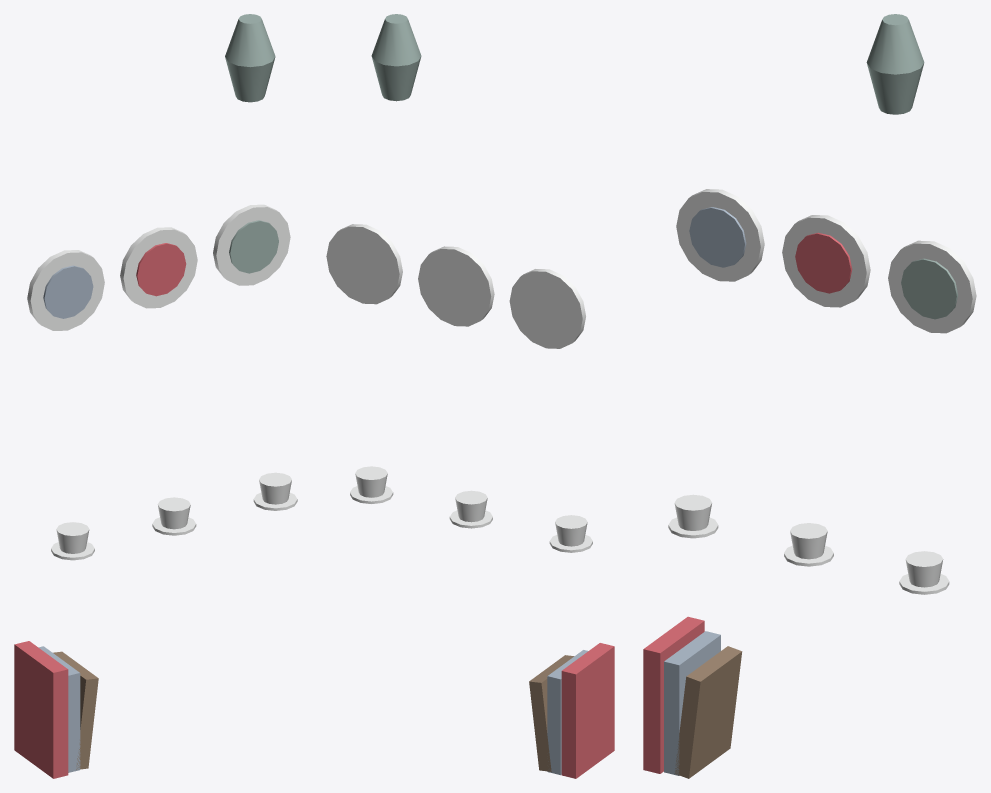
The model's file is curio-contents.gltf.
3 views of the same model, side by side, from view 1: azimuth 30°, elevation 25°; view 2: azimuth 150°, elevation 25°; view 3: azimuth 330°, elevation 25° (orthographic). The views are drawn at different scales.
Visible parts, largest first — view 1: cbook_1, Plate2, Plate1, Plate0, PlateIn0, PlateIn2, PlateIn1, VaseUp, cbook_3, cbook_2, VaseLow, Cup1 (+2 smaller); view 2: cbook_1, Plate1, Plate2, Plate0, VaseUp, cbook_3, cbook_2, VaseLow, Cup2, Cup0, Cup1; view 3: cbook_3, Plate0, Plate1, Plate2, cbook_1, cbook_2, PlateIn0, PlateIn2, PlateIn1, VaseUp, VaseLow, Cup1 (+2 smaller).
Part boxes in pixels (box(x1,y1,x2,y2)): cbook_1: box(14, 641, 68, 778); Plate2: box(213, 204, 290, 285); Plate1: box(120, 227, 197, 308); Plate0: box(27, 250, 104, 330); PlateIn0: box(43, 265, 93, 318); PlateIn2: box(229, 220, 278, 273); PlateIn1: box(136, 243, 186, 296); VaseUp: box(225, 14, 275, 67); cbook_3: box(53, 651, 98, 769); cbook_2: box(38, 646, 80, 772); VaseLow: box(225, 57, 275, 102); Cup1: box(157, 497, 190, 529); cbook_1: box(561, 643, 614, 778); Plate1: box(418, 246, 494, 326); Plate2: box(326, 224, 402, 304); Plate0: box(509, 269, 585, 348); VaseUp: box(371, 14, 421, 66); cbook_3: box(529, 655, 574, 771); cbook_2: box(547, 650, 588, 775); VaseLow: box(371, 56, 421, 101); Cup2: box(355, 466, 387, 497); Cup0: box(555, 515, 587, 546); Cup1: box(455, 490, 487, 522); cbook_3: box(674, 646, 742, 778); Plate0: box(676, 189, 764, 281); Plate1: box(782, 215, 870, 307); Plate2: box(888, 240, 976, 333); cbook_1: box(643, 616, 704, 773); cbook_2: box(664, 631, 720, 775); PlateIn0: box(689, 207, 746, 267); PlateIn2: box(901, 258, 958, 319); PlateIn1: box(795, 232, 852, 293); VaseUp: box(866, 14, 924, 74); VaseLow: box(867, 63, 923, 114); Cup1: box(790, 523, 827, 559).
Bounding box in the file's own units: 0.0389 × 0.0991 × 0.0101.
